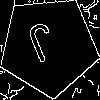J: (23, 21, 64, 73)
